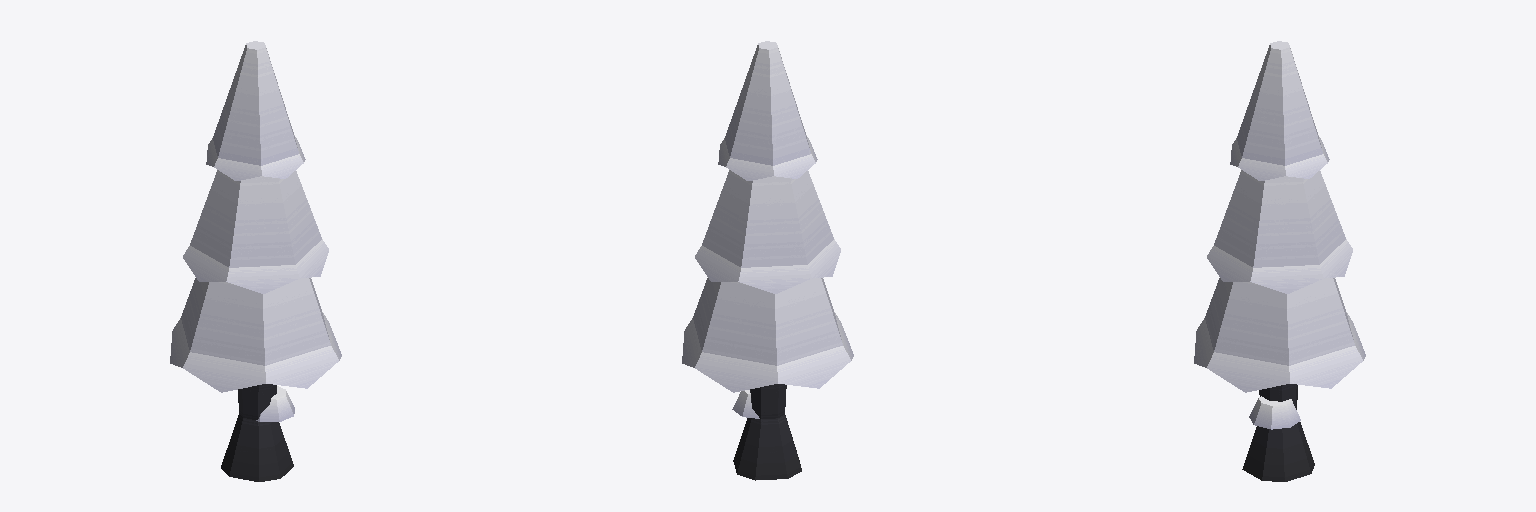
The picture shows the model from 3 angles: view 1: azimuth 30°, elevation 25°; view 2: azimuth 150°, elevation 25°; view 3: azimuth 270°, elevation 25°; orthographic projection.
Parts seen in each view (by area): view 1: tree.020; view 2: tree.020; view 3: tree.020.
Boxes of the visible parts, <box> form: tree.020: <box>170,41,341,481</box>; tree.020: <box>682,41,853,480</box>; tree.020: <box>1194,41,1365,481</box>.
Bounding box in the file's own units: 1.35 × 3.47 × 1.29.
Materials: 1 (1 with a texture image).